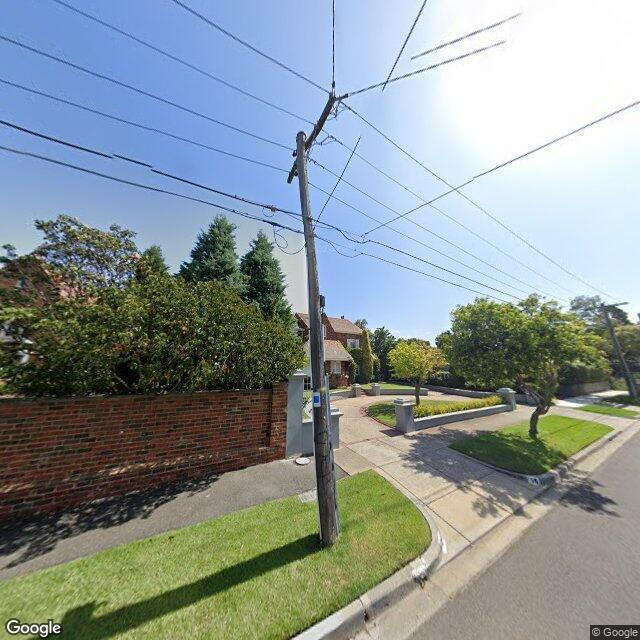crossarm: (287, 90, 349, 184), (585, 302, 628, 312)
timber-pole: (296, 130, 339, 544), (601, 302, 637, 397)
